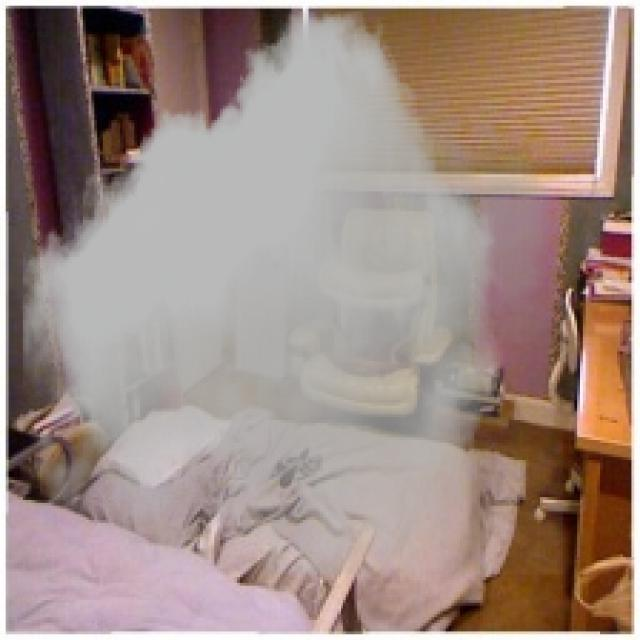Smoke: (14, 12, 563, 574)
